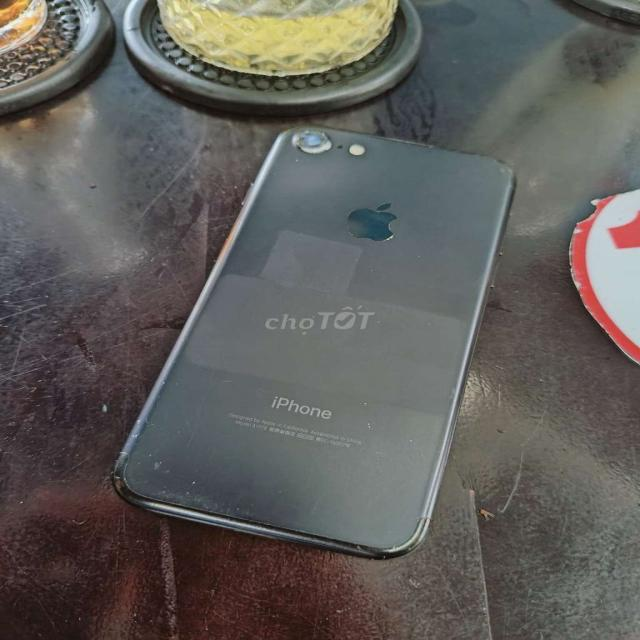gen_7_8: (100, 121, 524, 560)
scratch: (109, 411, 435, 558), (334, 194, 429, 278), (402, 134, 520, 182), (266, 124, 340, 165), (148, 358, 238, 390), (441, 380, 459, 408), (353, 392, 374, 407)
